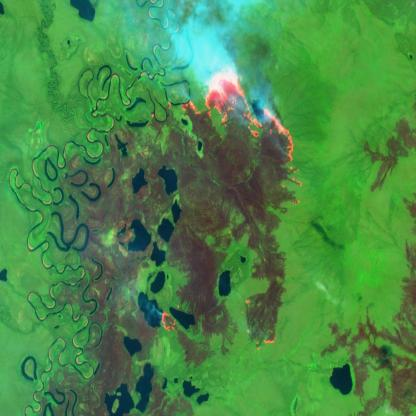fire: (160, 60, 302, 170), (239, 290, 278, 358), (152, 298, 181, 332)
